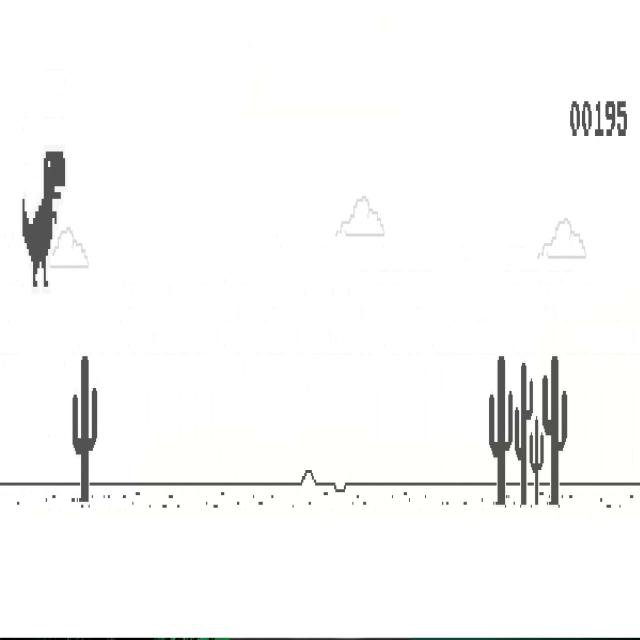cacto: (542, 354, 568, 506), (72, 354, 98, 502), (489, 354, 513, 506), (515, 362, 533, 506), (529, 416, 544, 506)
dino: (22, 150, 66, 288)
